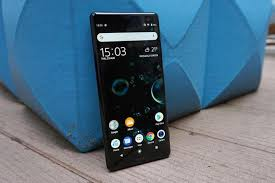sony: (86, 7, 173, 173)
